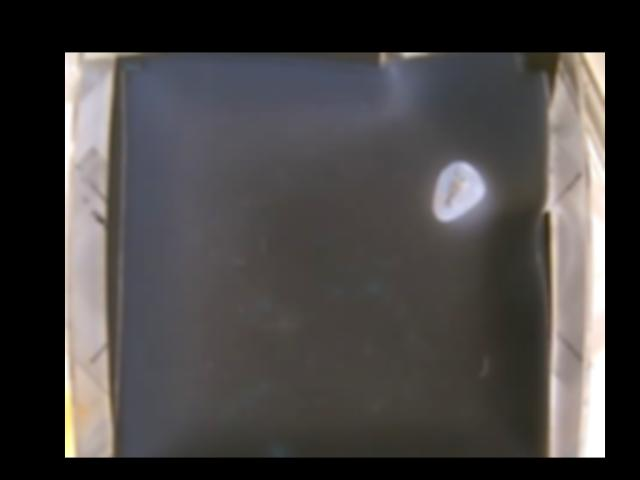Pebble: (432, 160, 482, 222)
